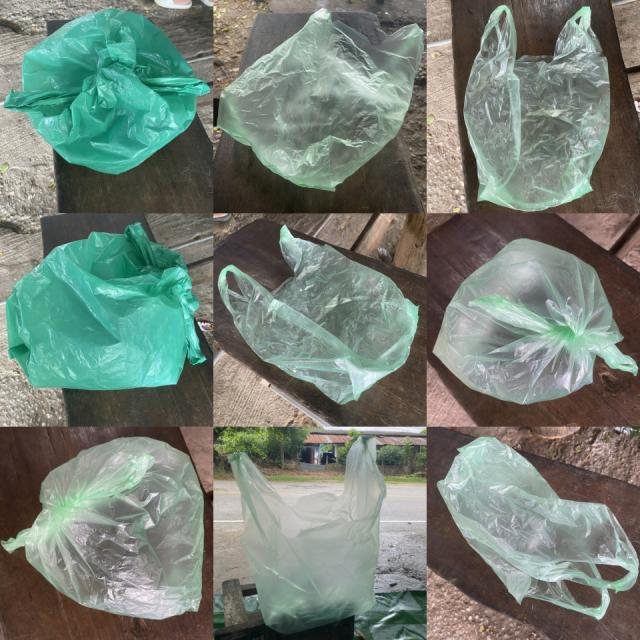Single-layer Plastic: (218, 9, 422, 191), (2, 436, 204, 618), (438, 438, 638, 618), (218, 226, 419, 403), (5, 9, 209, 173), (434, 239, 638, 403), (6, 224, 205, 389), (228, 435, 386, 634), (464, 6, 610, 211)
